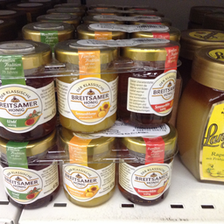honey: (179, 45, 224, 180), (1, 38, 59, 141), (58, 39, 117, 133), (120, 45, 179, 128), (118, 131, 179, 207), (58, 135, 117, 207), (1, 140, 62, 208)
